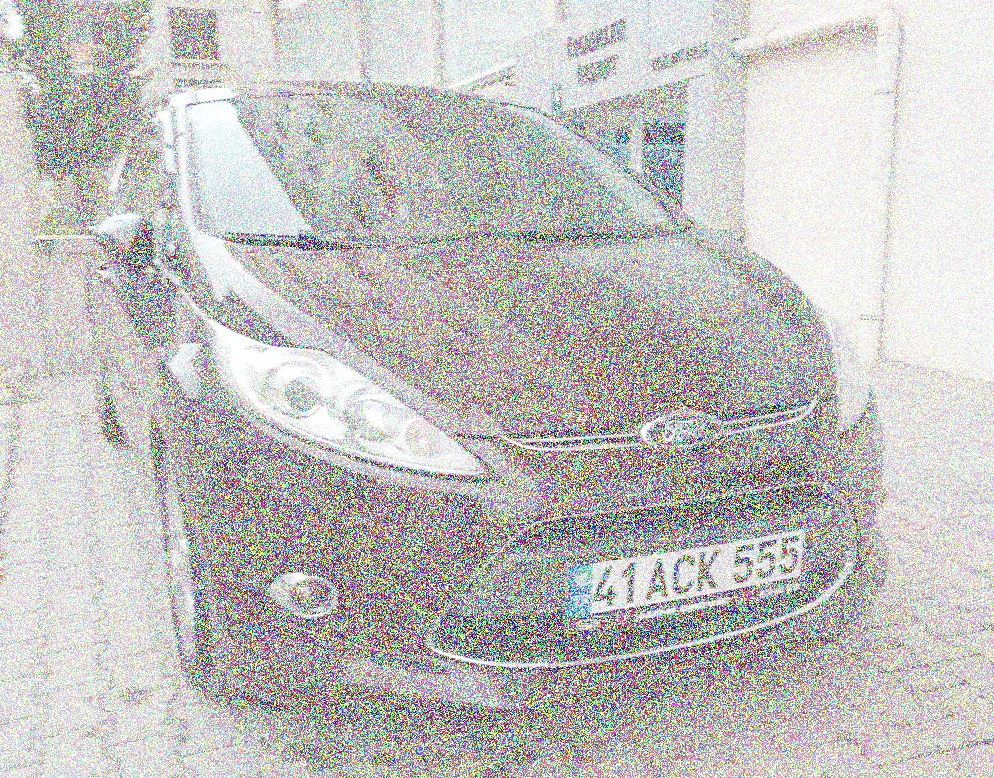plaka: (591, 531, 806, 615)
